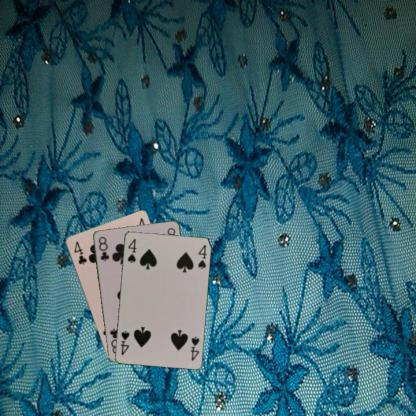4c: (71, 238, 88, 266)
4s: (125, 236, 137, 264), (188, 334, 200, 362)
8c: (96, 234, 110, 262)
